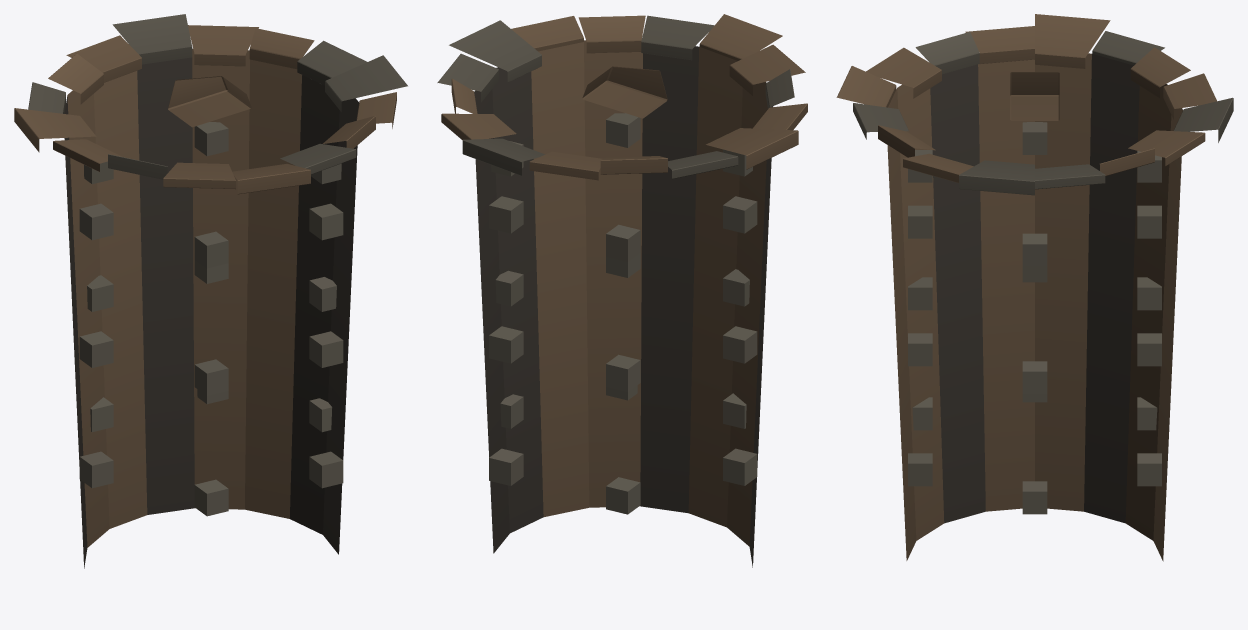
File: arandu_cave_fall.glb
The picture shows the model from 3 angles, left to right: view 1: azimuth 30°, elevation 25°; view 2: azimuth 150°, elevation 25°; view 3: azimuth 270°, elevation 25°; orthographic projection.
Visible parts, largest first — view 1: kit_pit_shaft, kit_pit_rim, kit_collapse_chunk; view 2: kit_pit_shaft, kit_pit_rim, kit_collapse_chunk; view 3: kit_pit_shaft, kit_pit_rim, kit_collapse_chunk.
Part boxes in pixels (<box>): kit_pit_shaft: <box>64,48,358,568</box>; kit_pit_rim: <box>14,14,407,194</box>; kit_collapse_chunk: <box>168,76,251,127</box>; kit_pit_shaft: <box>474,40,773,567</box>; kit_pit_rim: <box>437,14,807,180</box>; kit_collapse_chunk: <box>582,66,667,118</box>; kit_pit_shaft: <box>887,53,1182,561</box>; kit_pit_rim: <box>836,14,1233,195</box>; kit_collapse_chunk: <box>1010,72,1059,120</box>.
Bounding box in the file's own units: 4.8 × 6.38 × 4.8.
